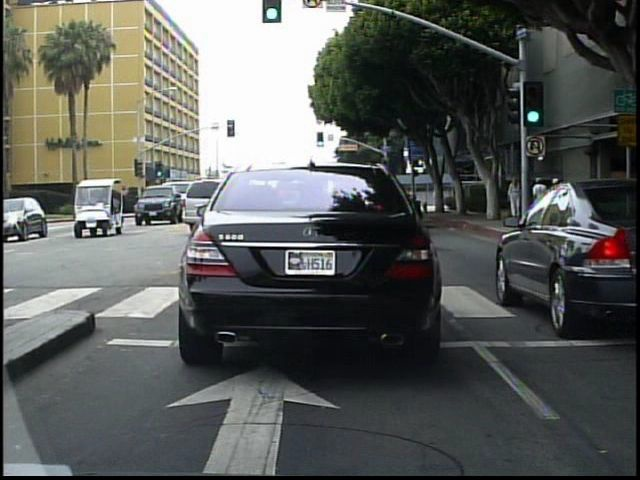person: (529, 175, 554, 228), (507, 174, 524, 225), (437, 183, 450, 210)
